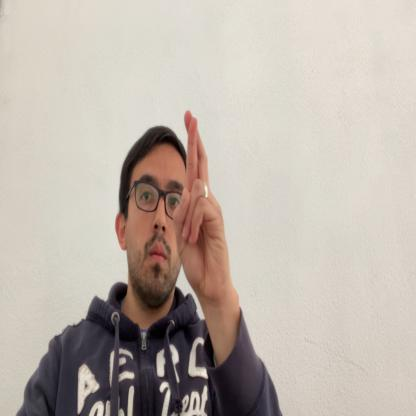R: (173, 109, 228, 303)
